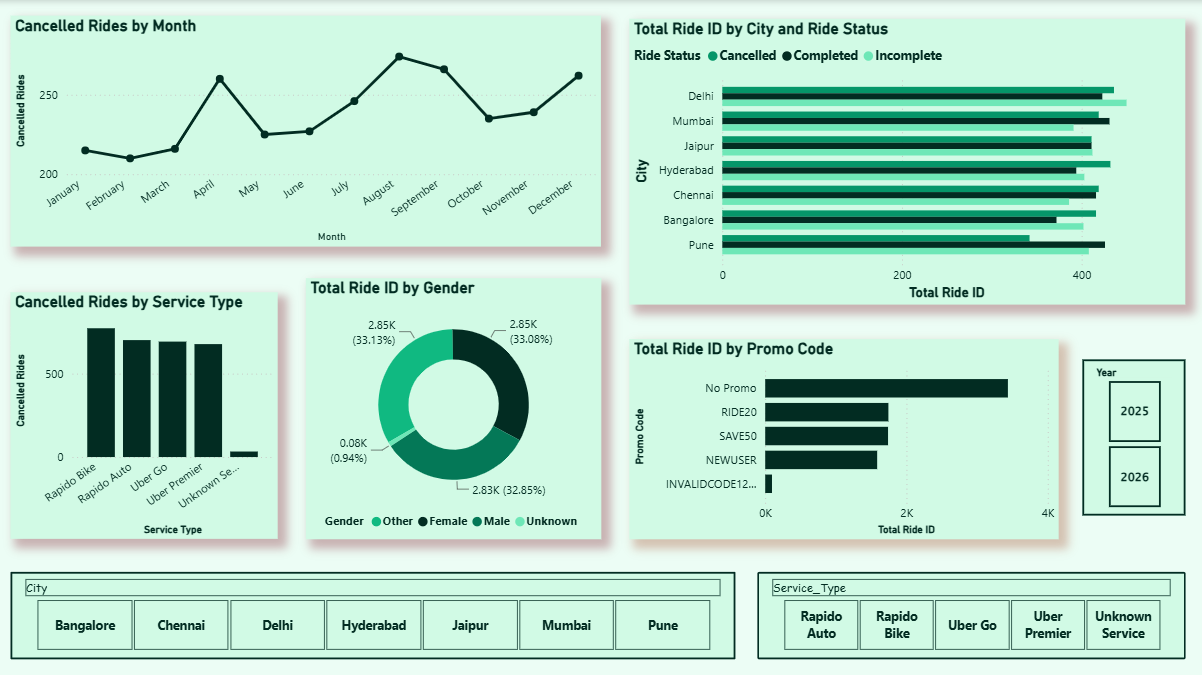

The dashboard page shown, as its layout file describes it:
{"tool":"powerbi","page":{"name":"3. Customer & Cancellations Insights","canvas":[1280,720],"ordinal":3},"visuals":[{"type":"clusteredBarChart","fields":{"Category":["Sheet2.City"],"Series":["Sheet2.Ride_Status"],"Y":["CountNonNull(Sheet2.Ride_ID)"]},"box":[669.9,19.9,590.3,303.4],"z":0},{"type":"clusteredColumnChart","fields":{"Y":["Sheet2.Cancelled Rides"],"Category":["Sheet2.Service_Type"]},"box":[13.3,310.1,283.5,262],"z":1000},{"type":"donutChart","fields":{"Category":["Sheet2.Customer_Gender"],"Y":["CountNonNull(Sheet2.Ride_ID)"]},"box":[326.6,295.1,313.4,276.9],"z":2000},{"type":"lineChart","fields":{"Category":["Sheet2.Booking_Date.Variation.Date Hierarchy.Month"],"Y":["Sheet2.Cancelled Rides"]},"box":[13.3,16.6,626.8,245.4],"z":3000},{"type":"slicer","fields":{"Values":["Sheet2.City"]},"box":[13.3,606.9,769.4,92.9],"z":4000},{"type":"slicer","fields":{"Values":["Sheet2.Booking_Date.Variation.Date Hierarchy.Year"]},"box":[1150.7,381.4,109.4,165.8],"z":5000},{"type":"slicer","fields":{"Values":["Sheet2.Service_Type"]},"box":[805.8,606.9,454.3,92.9],"z":6000},{"type":"clusteredBarChart","fields":{"Category":["Sheet2.Promo_Code"],"Y":["CountNonNull(Sheet2.Ride_ID)"]},"box":[669.9,359.8,456,212.2],"z":7000}]}

Visuals, with their boxes in screenshot pixels (x1, y1, x2, y2), scaled from the page's 1280x720 canvas onto the 1202x675 screenshot:
clusteredBarChart - Sheet2.City x Sheet2.Ride_Status: box=[629, 19, 1183, 303]
clusteredColumnChart - Sheet2.Cancelled Rides x Sheet2.Service_Type: box=[12, 291, 279, 536]
donutChart - Sheet2.Customer_Gender x CountNonNull(Sheet2.Ride_ID): box=[307, 277, 601, 536]
lineChart - Sheet2.Booking_Date.Variation.Date Hierarchy.Month x Sheet2.Cancelled Rides: box=[12, 16, 601, 246]
slicer - Sheet2.City: box=[12, 569, 735, 656]
slicer - Sheet2.Booking_Date.Variation.Date Hierarchy.Year: box=[1081, 358, 1183, 513]
slicer - Sheet2.Service_Type: box=[757, 569, 1183, 656]
clusteredBarChart - Sheet2.Promo_Code x CountNonNull(Sheet2.Ride_ID): box=[629, 337, 1057, 536]
